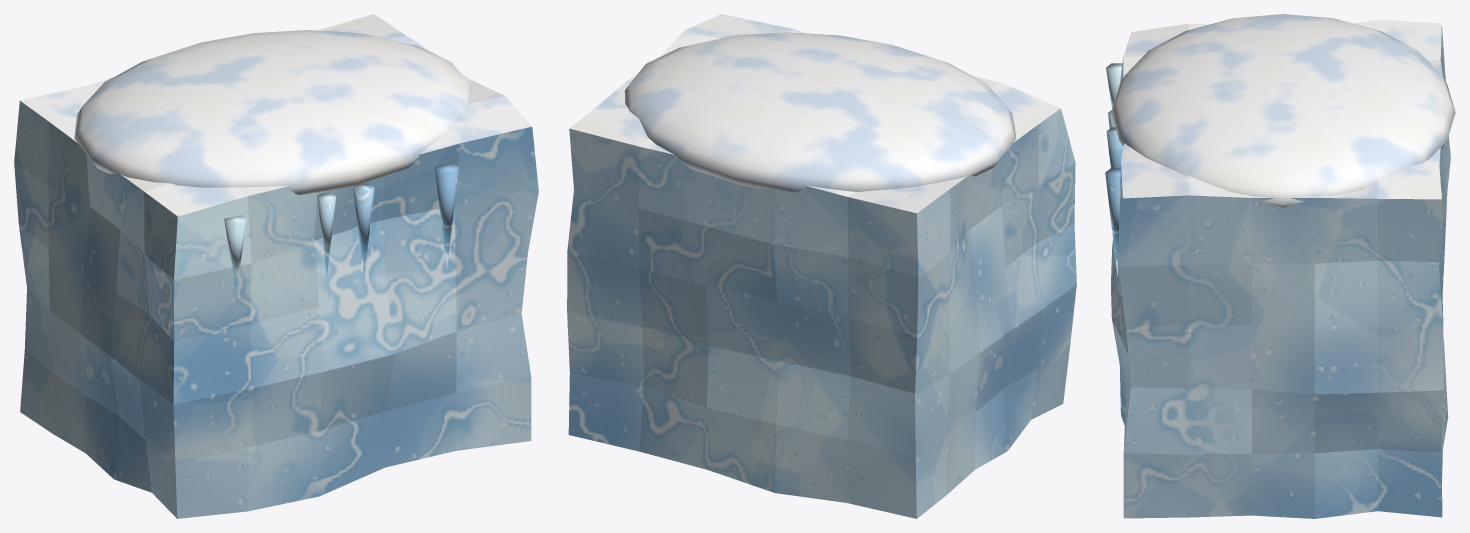
The model's file is ice_chest.glb.
3 renders of one model, left to right at view 1: azimuth 30°, elevation 25°; view 2: azimuth 150°, elevation 25°; view 3: azimuth 270°, elevation 25°, orthographic. The views are drawn at different scales.
Visible parts, largest first — view 1: Ice; view 2: Ice; view 3: Ice.
Part boxes in pixels (box(x1,y1,x2,y2)): Ice: box(14, 14, 538, 518); Ice: box(567, 14, 1076, 518); Ice: box(1105, 14, 1455, 518).
Bounding box in the file's own units: 1.31 × 1.2 × 1.06.
1 material, 1 textured.
